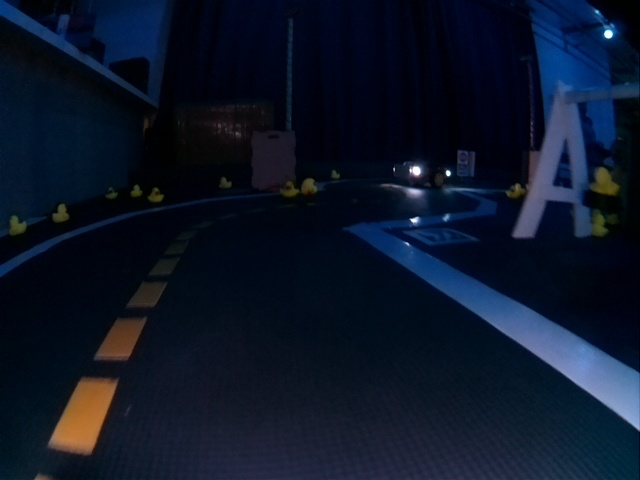Duckie: (590, 168, 616, 193), (592, 216, 609, 236), (9, 216, 26, 233), (52, 204, 68, 222), (280, 181, 296, 194), (303, 179, 317, 191), (150, 188, 162, 202), (219, 177, 231, 188)
Duckiebot: (392, 159, 451, 187)
QR code: (406, 228, 475, 245)
